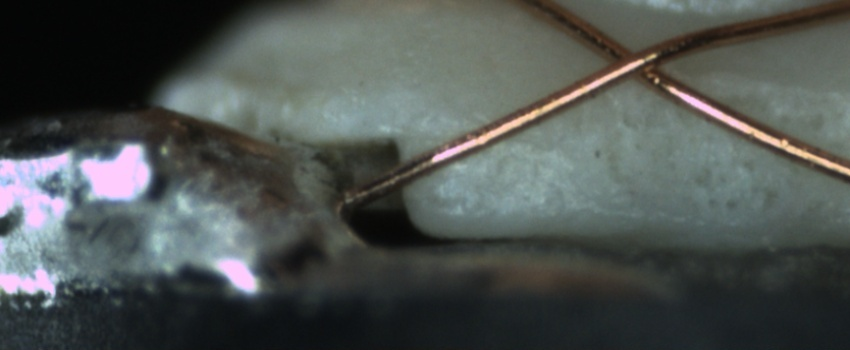CL: (580, 29, 686, 94)
